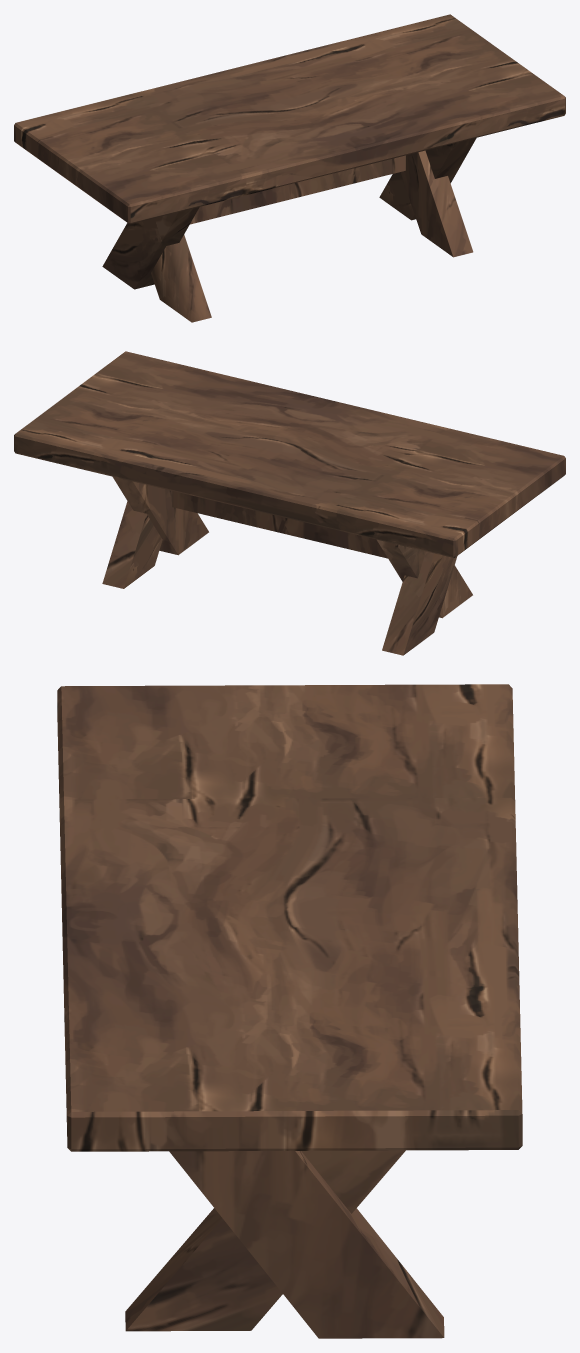
File: Desk.fbx
3 views of the same model, one above another, from view 1: azimuth 30°, elevation 25°; view 2: azimuth 150°, elevation 25°; view 3: azimuth 270°, elevation 25° (orthographic). The views are drawn at different scales.
Visible parts, largest first — view 1: Desk; view 2: Desk; view 3: Desk.
Boxes of the visible parts, bbox=[...] form: Desk: bbox=[14, 14, 565, 322]; Desk: bbox=[14, 351, 565, 655]; Desk: bbox=[57, 684, 522, 1338].
Bounding box in the file's own units: 2.83 × 0.903 × 1.29.
